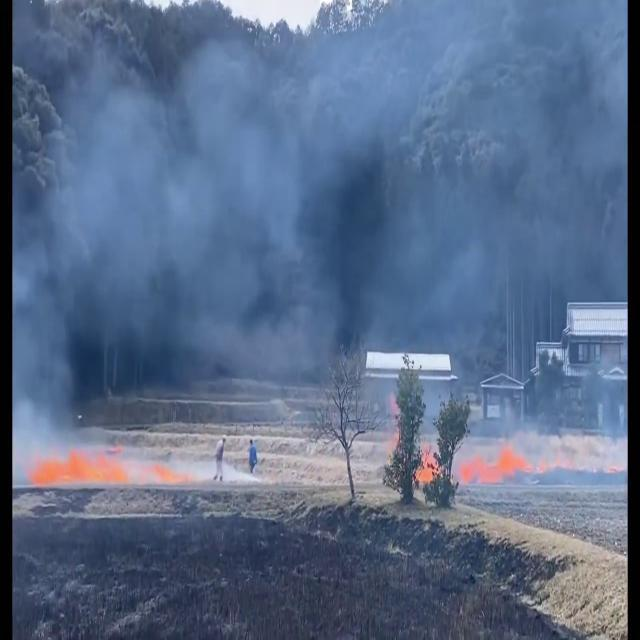Fire: (34, 440, 132, 494), (462, 434, 540, 487), (413, 436, 441, 490)
Smoke: (16, 2, 618, 442)
